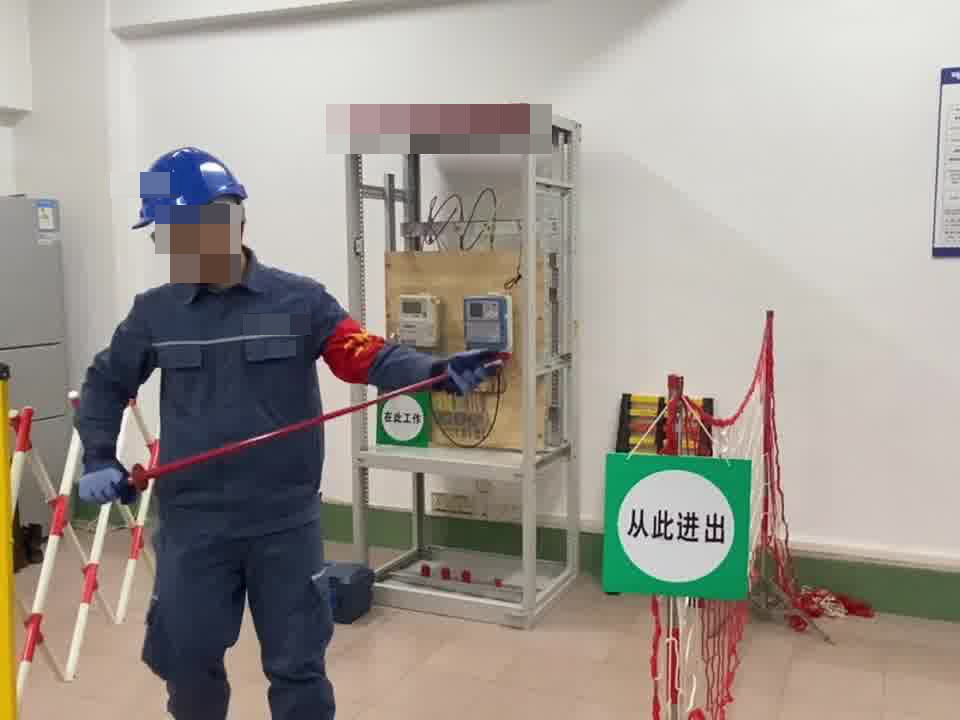badge: (324, 315, 385, 382)
downsuit: (141, 539, 343, 720)
glove: (429, 347, 499, 398), (81, 462, 132, 506)
halt: (132, 145, 257, 286)
inear: (208, 202, 244, 252)
intosign: (599, 449, 750, 597)
person: (70, 142, 451, 720)
testrod: (130, 354, 505, 484)
upsuit: (76, 270, 343, 530)
worksign: (373, 393, 428, 447)
